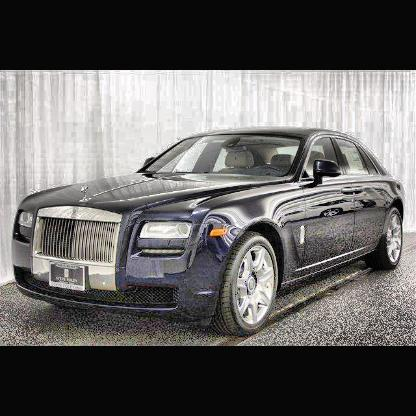Rolls-Royce Ghost Sedan 2012: (12, 127, 407, 333)
